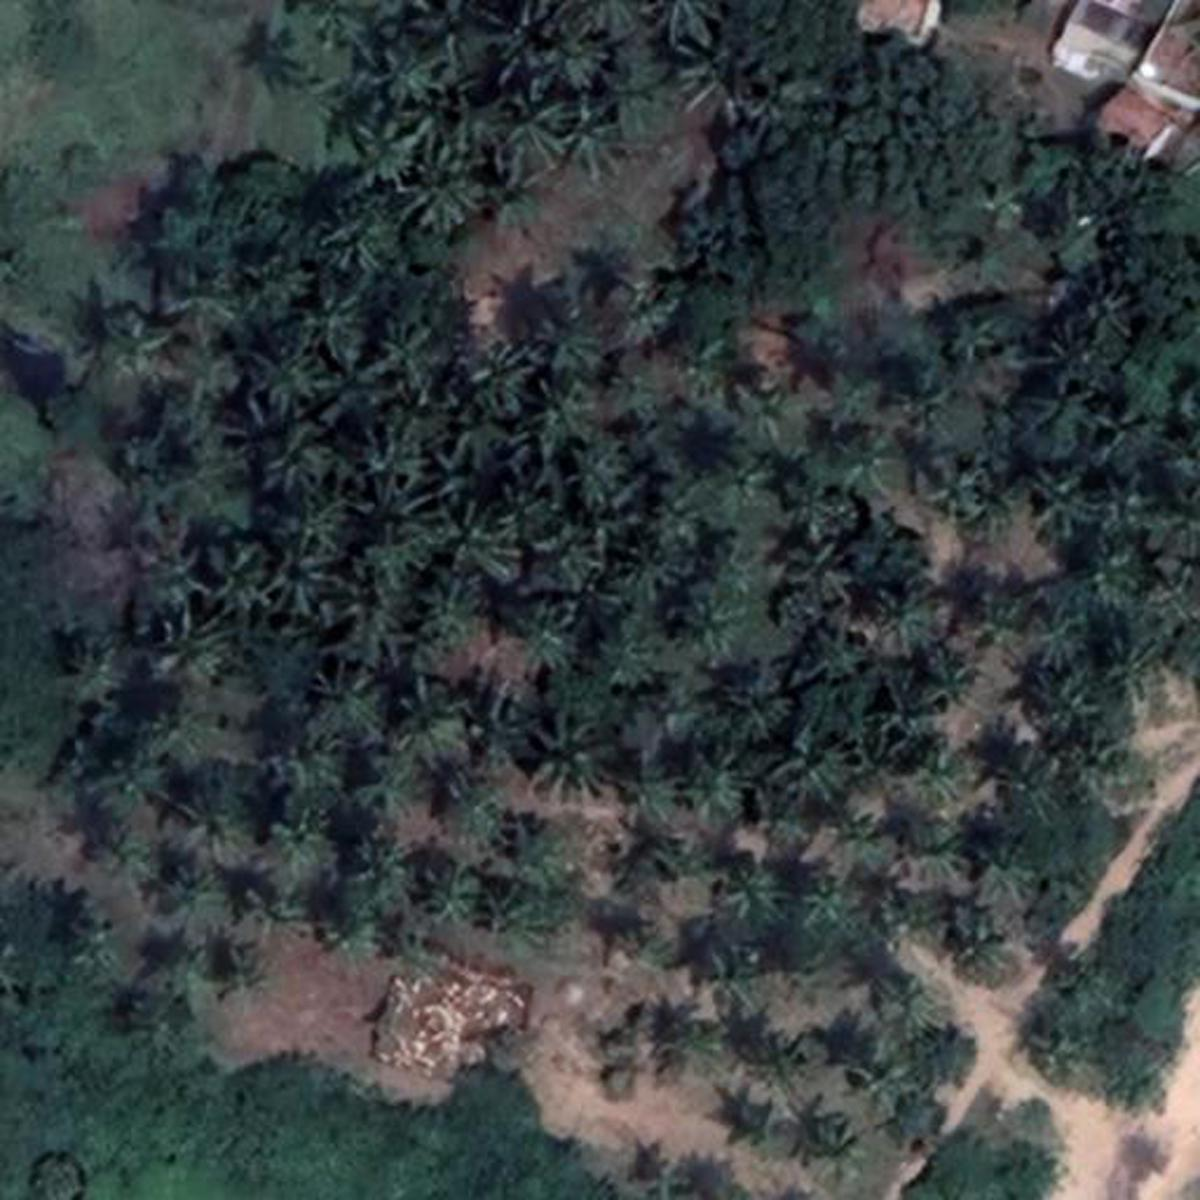coconut: (489, 2, 616, 89), (189, 529, 295, 627), (389, 665, 499, 759), (285, 564, 393, 656), (180, 775, 271, 874), (525, 700, 614, 801), (921, 438, 1012, 529), (405, 138, 489, 234), (857, 960, 958, 1038), (597, 614, 698, 691), (771, 724, 862, 810), (773, 534, 869, 611), (656, 1007, 745, 1089), (304, 665, 410, 733), (210, 867, 311, 937), (693, 937, 780, 1019), (349, 825, 431, 911), (433, 510, 527, 584), (505, 808, 576, 907), (243, 335, 330, 412), (342, 114, 426, 192), (532, 527, 625, 597), (609, 745, 689, 825), (1035, 325, 1116, 403), (993, 749, 1075, 827), (965, 836, 1040, 921), (670, 42, 752, 119), (152, 611, 238, 682), (705, 454, 796, 522), (363, 42, 447, 114), (1082, 389, 1167, 462), (133, 921, 222, 989), (351, 421, 427, 499), (82, 752, 175, 816), (100, 309, 185, 379), (60, 635, 145, 705), (363, 522, 452, 588), (864, 581, 949, 649), (836, 421, 909, 501), (478, 147, 549, 229), (900, 742, 977, 816), (284, 58, 363, 131), (789, 1095, 862, 1174), (363, 754, 454, 816), (670, 332, 738, 414), (716, 656, 799, 724), (834, 799, 904, 878), (173, 269, 253, 338), (321, 196, 389, 276), (560, 105, 642, 173), (684, 757, 759, 827), (365, 321, 445, 386), (1038, 457, 1099, 543), (897, 365, 970, 435), (745, 1026, 827, 1089), (288, 496, 363, 564), (710, 1089, 796, 1148), (445, 780, 516, 851), (532, 314, 611, 377), (248, 248, 316, 321), (914, 642, 982, 714), (515, 607, 592, 670), (471, 342, 538, 414), (499, 93, 567, 164), (638, 4, 731, 56), (262, 426, 330, 496), (473, 895, 557, 949), (846, 1042, 916, 1108), (721, 853, 792, 916), (569, 440, 638, 503), (1035, 673, 1099, 742), (808, 611, 869, 682), (738, 384, 816, 438), (532, 373, 600, 435), (309, 290, 370, 358), (285, 810, 346, 878), (677, 588, 762, 637), (649, 471, 719, 532), (1026, 600, 1092, 663), (91, 810, 147, 884), (145, 546, 215, 604), (604, 536, 684, 588), (795, 878, 864, 935), (157, 834, 210, 909), (210, 932, 278, 989), (414, 584, 485, 638), (1080, 543, 1143, 604), (778, 478, 846, 534), (1105, 632, 1164, 696), (1082, 281, 1148, 337), (975, 585, 1031, 651), (1108, 485, 1162, 549), (412, 869, 478, 921), (951, 311, 1010, 365), (311, 7, 365, 38)
